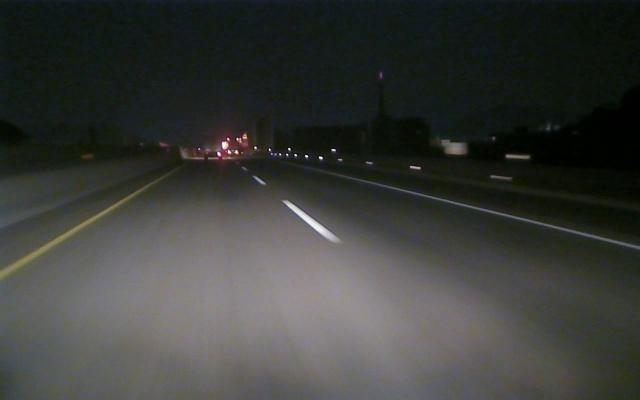lane: (334, 173, 638, 251), (1, 188, 144, 279), (252, 175, 342, 242)
